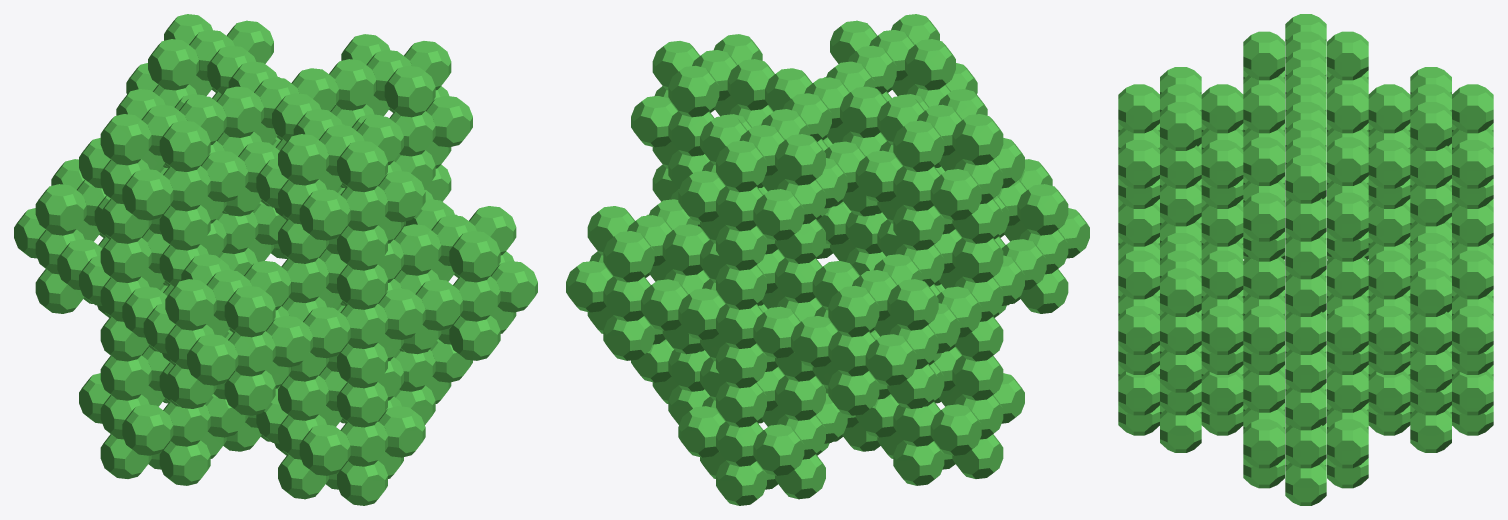
File: fractaltruncatedcuboctahedron4-2.glb
3 renders of one model, left to right at view 1: azimuth 30°, elevation 25°; view 2: azimuth 150°, elevation 25°; view 3: azimuth 270°, elevation 25°, orthographic. The views are drawn at different scales.
Bounding box in the file's own units: 7.19 × 7.19 × 7.19.
